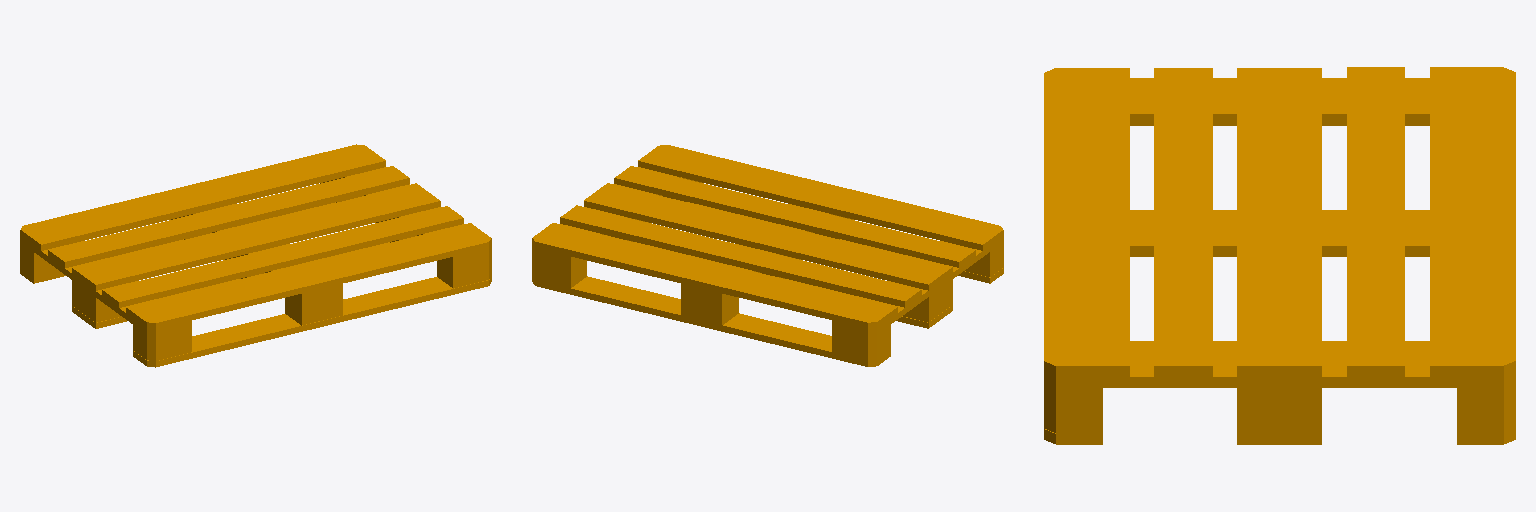
URDF robot description (pallet):
<?xml version="1.0" ?> 
<robot name="pallet" static="true">
  <link name="base_link">
  <inertial>
    <mass value="0.01"/>
    <origin xyz="0 0 0"/>
    <inertia ixx="0.001" ixy="0.0" ixz="0.0" iyy="0.001" iyz="0.0" izz="0.001" />
  </inertial>
  <visual>
   <origin xyz="0 0 0.0" rpy="0 0 0" />
   <geometry>
     <mesh filename="package://cob_gazebo_objects/Media/models/pallet.stl"/>
   </geometry>
  </visual>
  <collision>
   <origin xyz="0 0 0" rpy="0 0 0" />
   <geometry>
     <mesh filename="package://cob_gazebo_objects/Media/models/pallet.stl"/>
   </geometry>
  </collision>     
  </link>
  <gazebo>
    <static>true</static>
  </gazebo>
</robot>

--- Render facts (derived) ---
Views: 3 orthographic renders of the robot side by side, from view 1: azimuth 30°, elevation 25°; view 2: azimuth 150°, elevation 25°; view 3: azimuth 270°, elevation 25°.
Model pallet with 1 links and 0 joints (none), rooted at base_link, posed every joint at zero.
Visible links, largest first — view 1: base_link; view 2: base_link; view 3: base_link.
Link boxes in pixels (<box>): base_link: <box>20,144,491,367</box>; base_link: <box>532,145,1003,366</box>; base_link: <box>1044,67,1515,444</box>.
Size in the robot's own frame: 1.2 by 0.8 by 0.148 metres.
1 mesh visuals loaded from 1 distinct referenced files (1 binary STL).